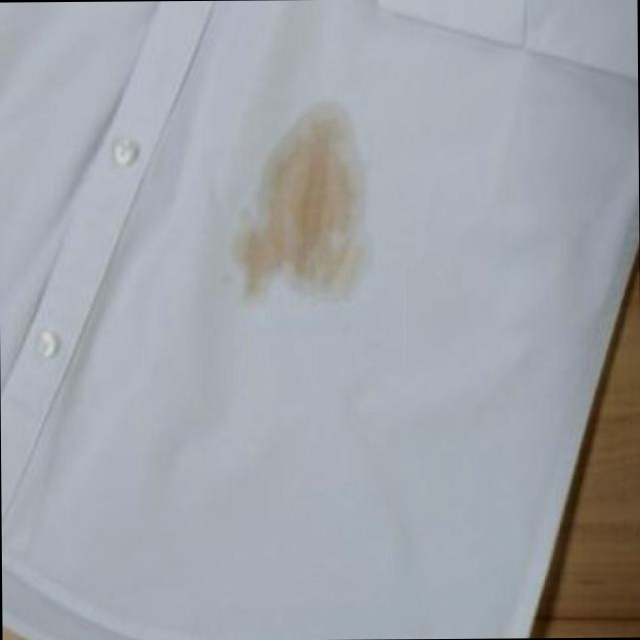coffee: (234, 103, 369, 304)
